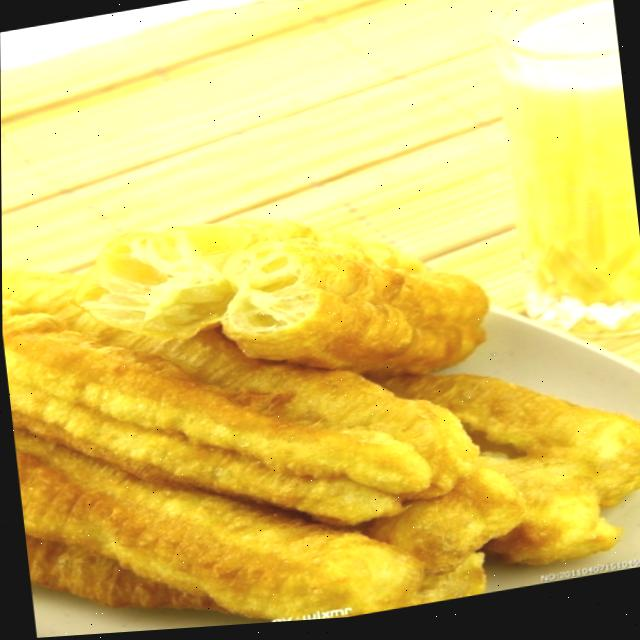炸货点心: (0, 33, 639, 640)
